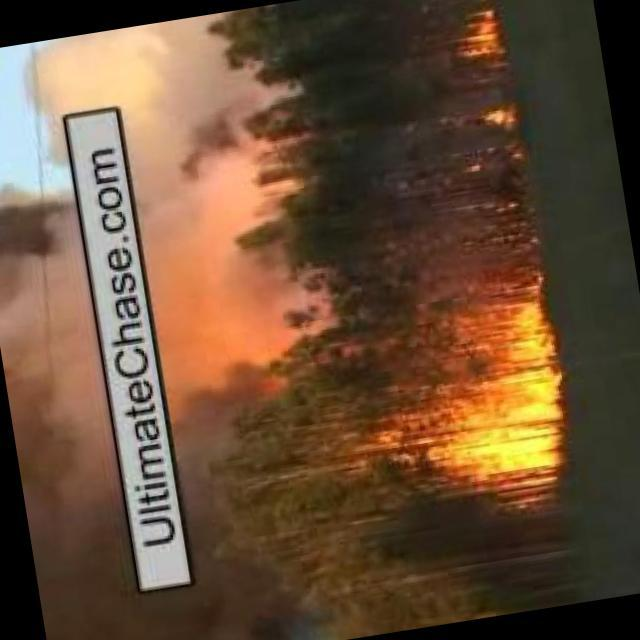Fire: (407, 282, 575, 509), (452, 7, 511, 67), (483, 108, 521, 135)
